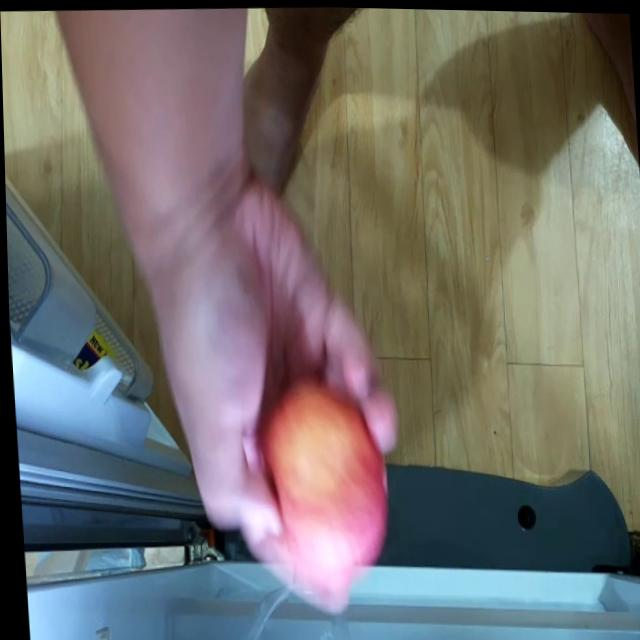apple: (251, 373, 387, 569)
